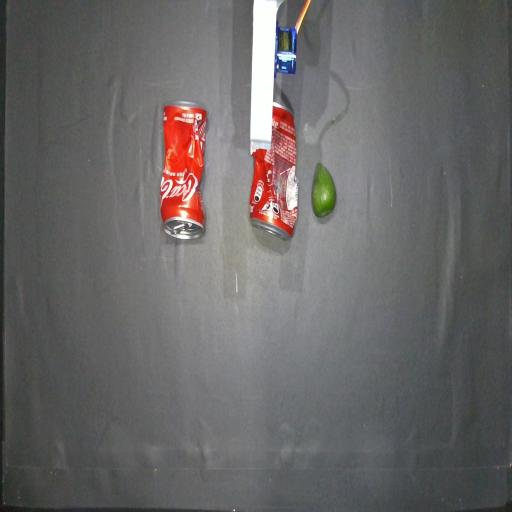higo: (312, 163, 336, 217)
lata_defectuoso: (249, 103, 298, 240), (160, 102, 207, 239)
